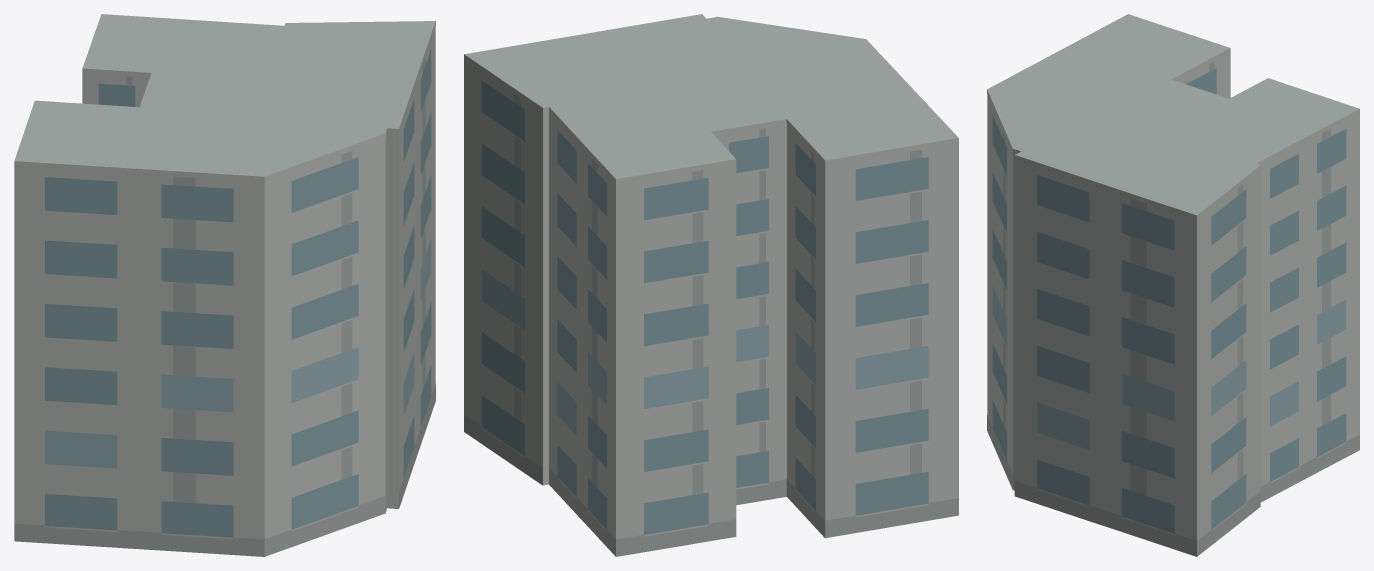
File: survey-upis-32693920.glb
The picture shows the model from 3 angles, left to right: view 1: azimuth 30°, elevation 25°; view 2: azimuth 150°, elevation 25°; view 3: azimuth 270°, elevation 25°; orthographic projection. The views are drawn at different scales.
Parts seen in each view (by area): view 1: survey-upis-32693920.tmp; view 2: survey-upis-32693920.tmp; view 3: survey-upis-32693920.tmp.
Boxes of the visible parts, bbox=[...] form: survey-upis-32693920.tmp: bbox=[14, 14, 435, 556]; survey-upis-32693920.tmp: bbox=[464, 14, 958, 556]; survey-upis-32693920.tmp: bbox=[987, 14, 1359, 556].
Size of the model in its own units: 21.65 by 17.1 by 16.93.
